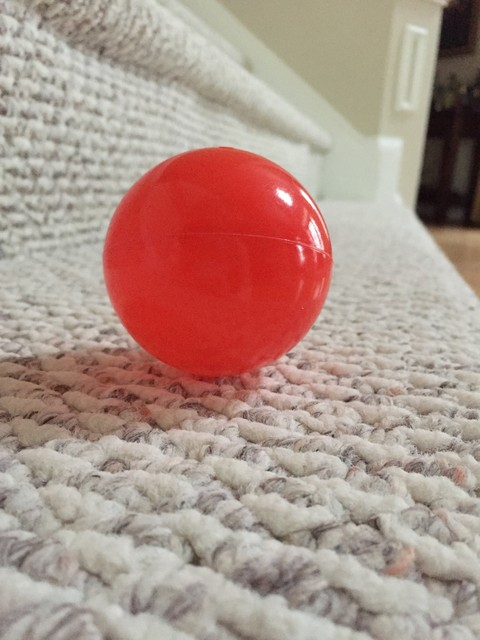Ball: (98, 150, 332, 375)
